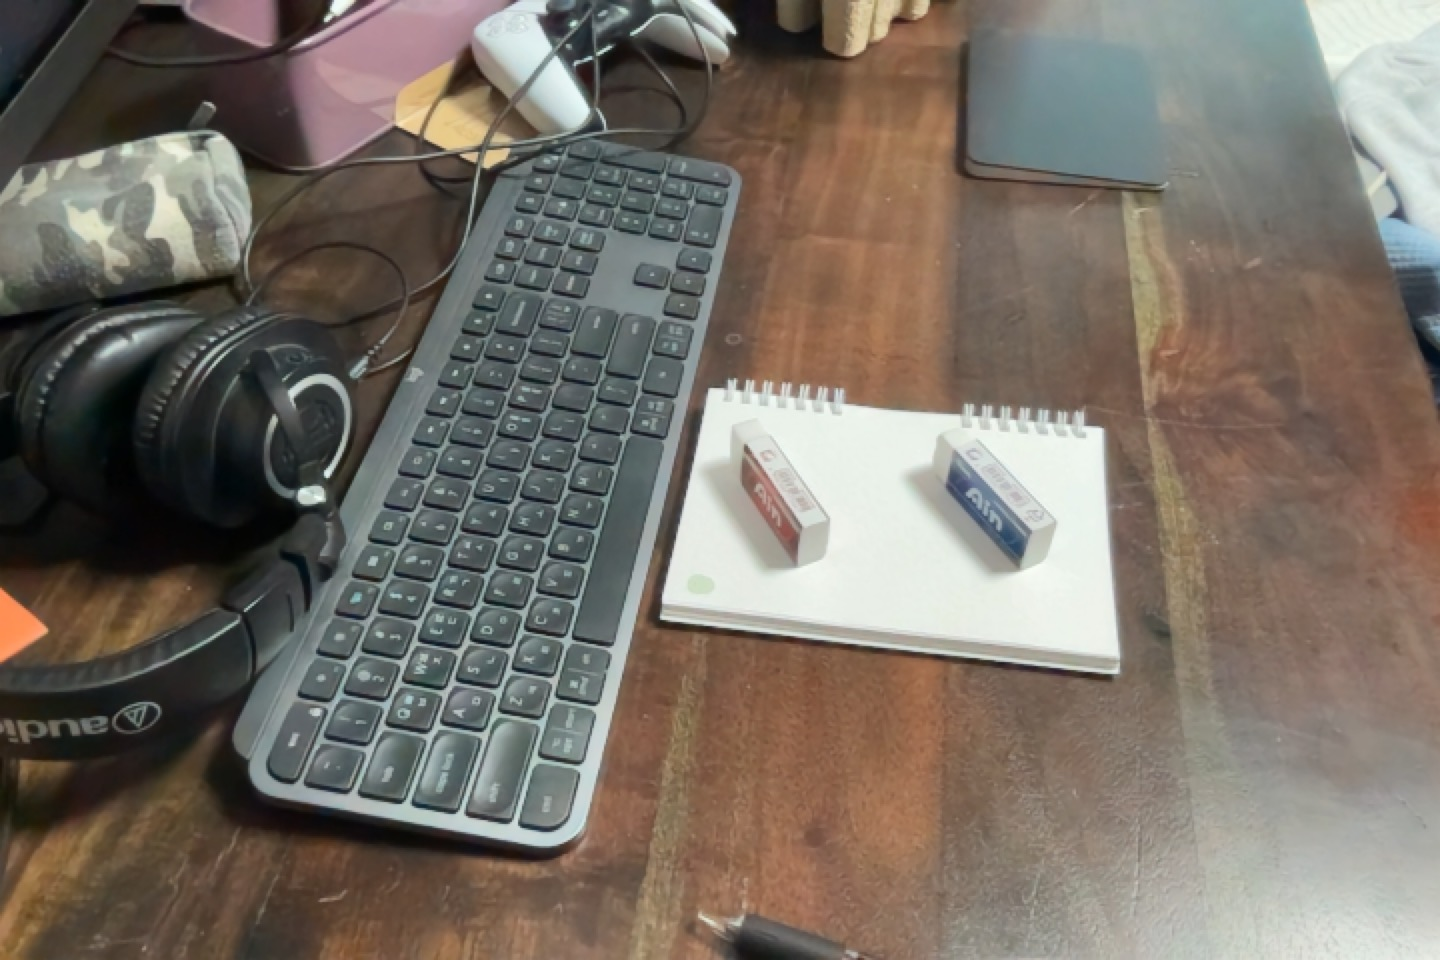blue: (927, 426, 1065, 576)
red: (721, 415, 847, 571)
